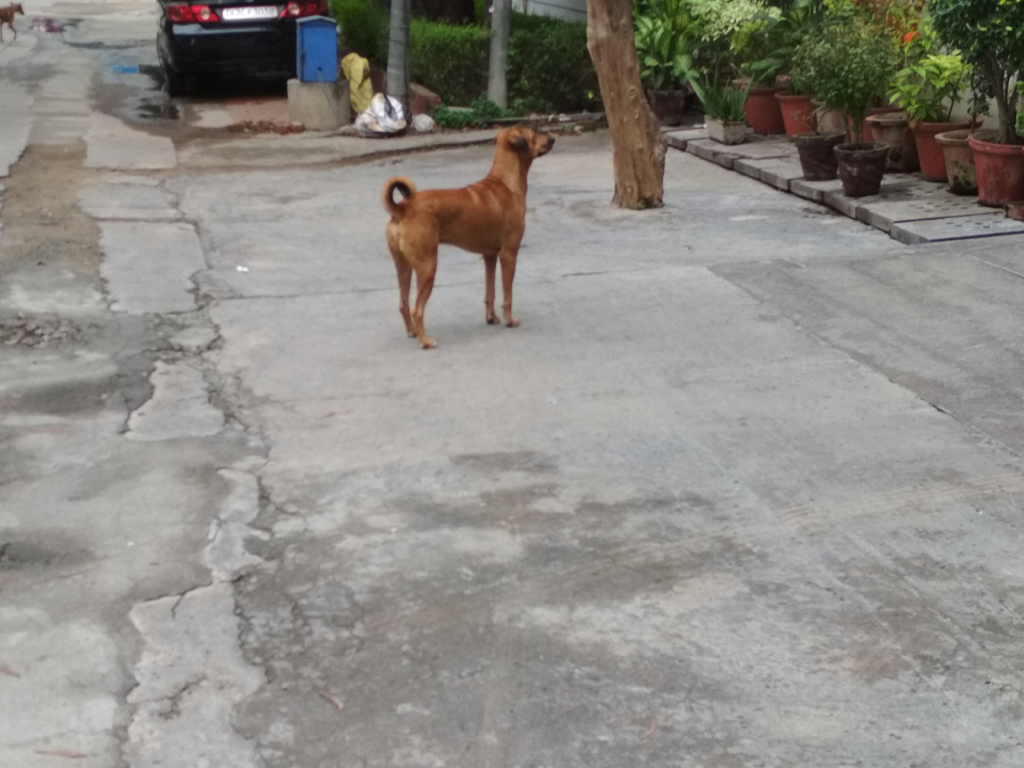dog: (383, 124, 556, 348)
